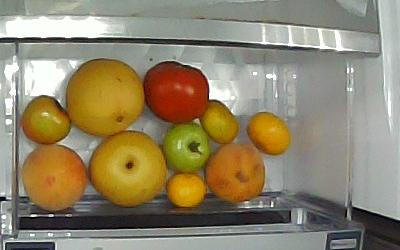peach: (21, 145, 86, 210), (204, 145, 266, 204)
pear: (66, 58, 143, 139), (89, 131, 167, 207)
tangerine: (246, 112, 294, 155), (199, 98, 240, 144), (166, 174, 206, 208)
tomato: (143, 61, 209, 123), (21, 96, 71, 145), (163, 122, 210, 173)
